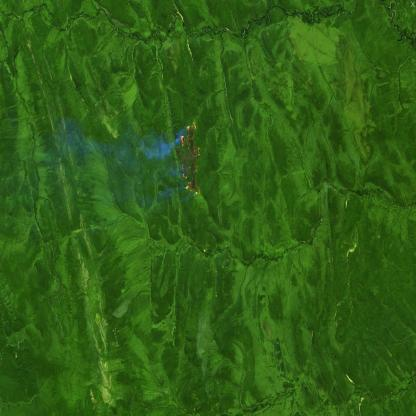fire: (181, 119, 205, 198)
